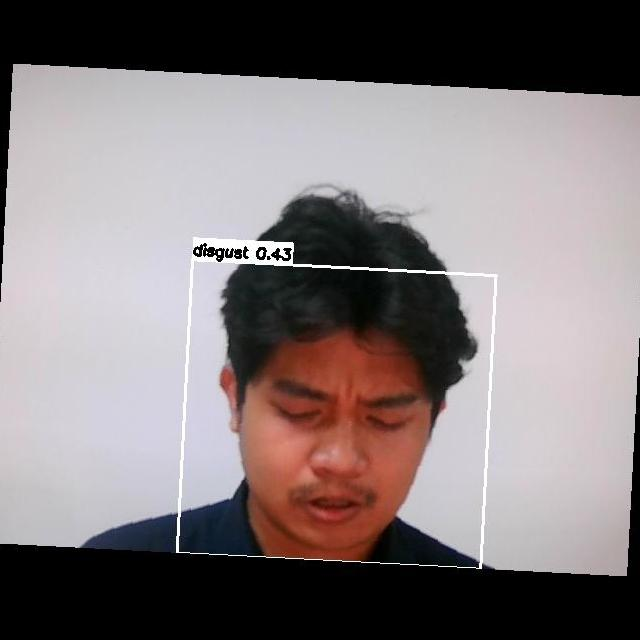Angry: (246, 356, 426, 534)
